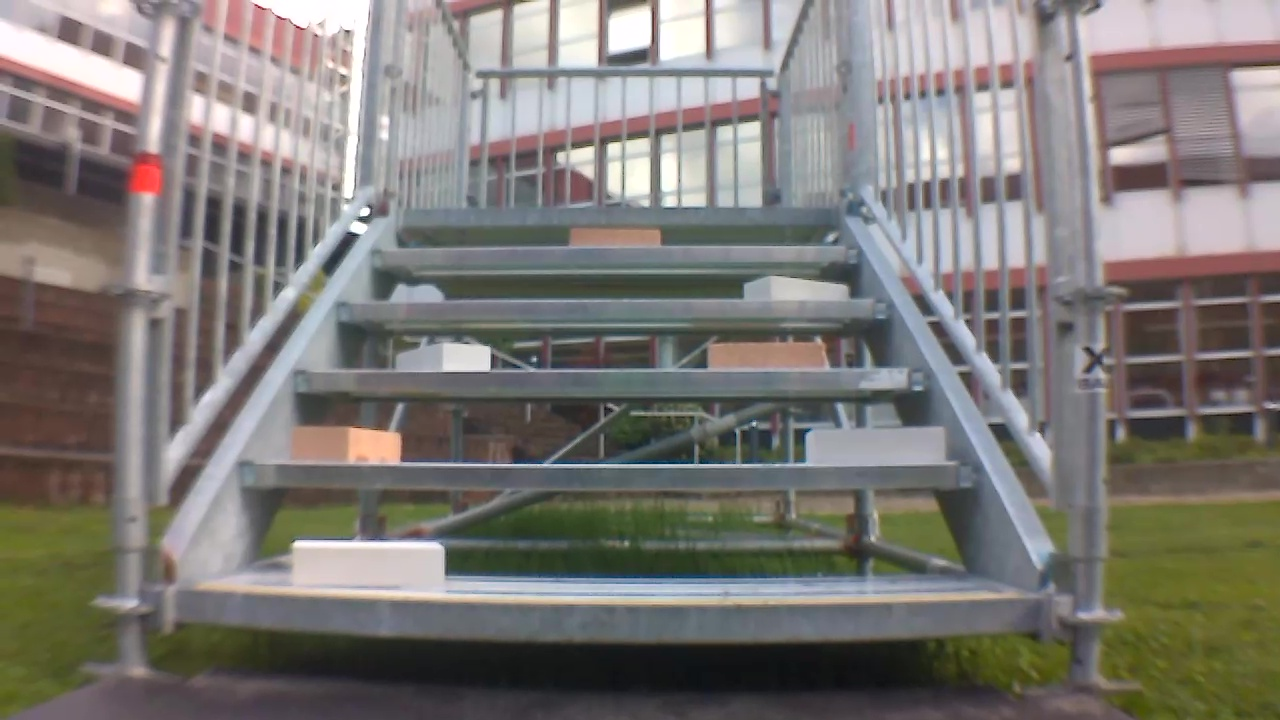brick: (290, 539, 451, 584), (801, 425, 948, 463), (287, 424, 404, 466), (705, 341, 828, 371), (739, 275, 854, 305), (394, 343, 493, 372), (565, 228, 660, 244)
edge: (174, 595, 1049, 634), (247, 462, 978, 486), (294, 369, 932, 392), (334, 297, 894, 320), (365, 245, 864, 266), (393, 206, 841, 229)
stairs: (113, 0, 1091, 708)
steps: (157, 212, 1048, 633)
